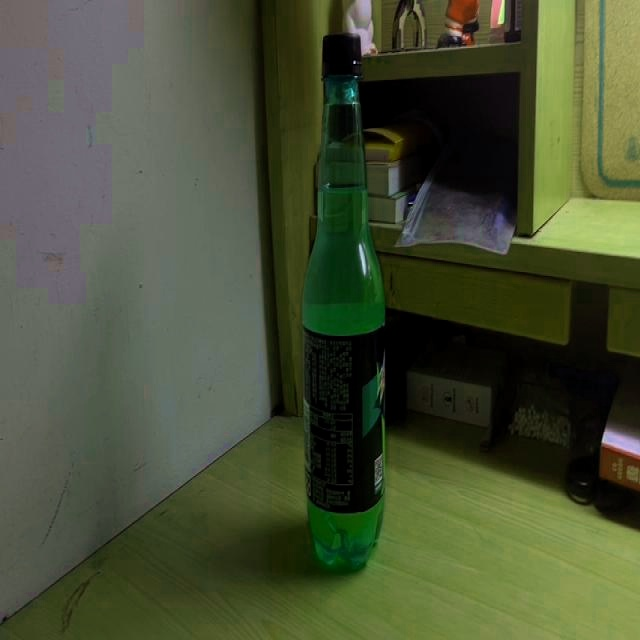Mountain-Dew: (301, 30, 387, 573)
